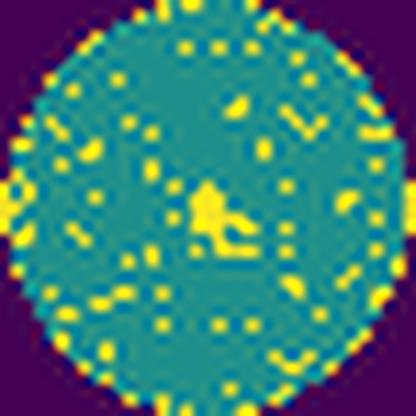Center: (182, 176, 264, 264)
